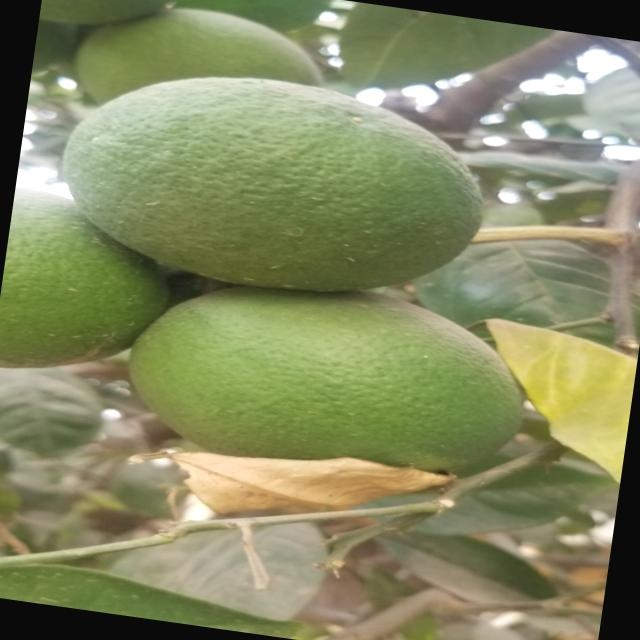agrume: (50, 46, 518, 326), (108, 261, 551, 524)
